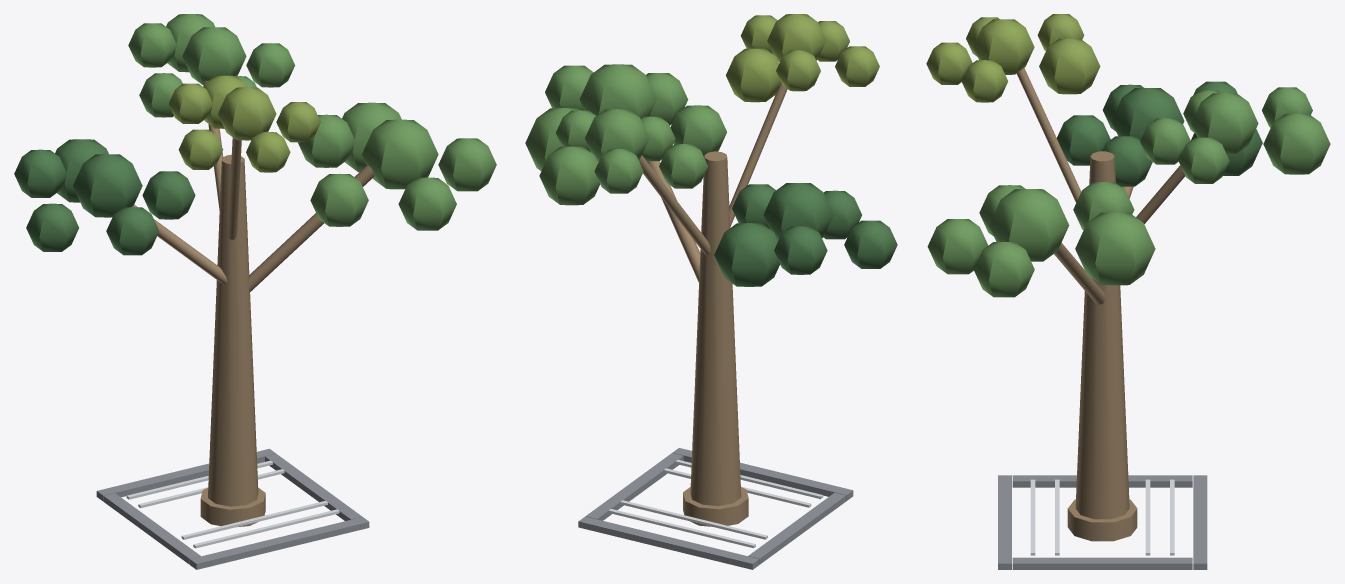
Rendered from Tree_Grate.fbx.
3 views of the same model, side by side, from view 1: azimuth 30°, elevation 25°; view 2: azimuth 150°, elevation 25°; view 3: azimuth 270°, elevation 25° (orthographic). The views are drawn at different scales.
Visible parts, largest first — view 1: LOD0; view 2: LOD0; view 3: LOD0.
Boxes of the visible parts, x1,y1,x2,y2 form: LOD0: [14, 14, 496, 569]; LOD0: [525, 14, 897, 569]; LOD0: [926, 14, 1330, 569].
Size of what is drawn, in the model's own units: 275 by 311 by 232.
